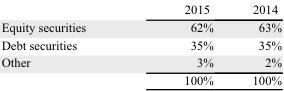table: (0, 0, 280, 88)
table column: (0, 0, 134, 88), (134, 0, 232, 88), (232, 0, 280, 88)
table column header: (0, 0, 280, 17)
table row: (0, 17, 280, 35), (0, 35, 280, 53), (0, 70, 280, 88), (0, 0, 280, 17), (0, 53, 280, 70)
